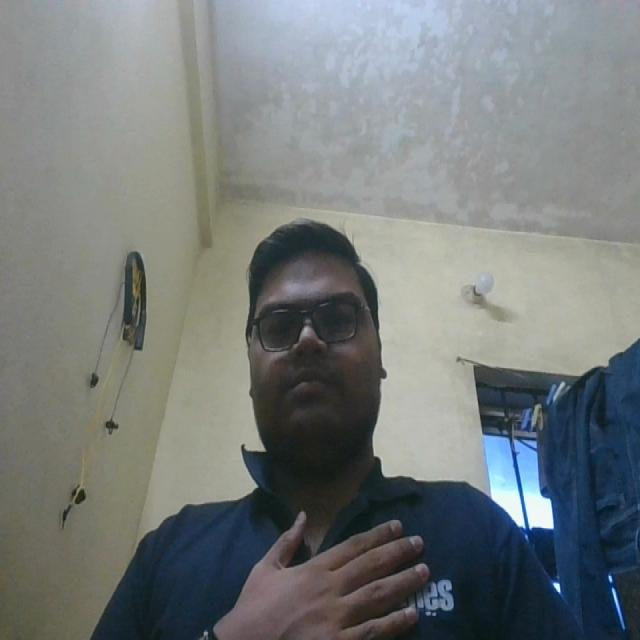Please: (231, 491, 438, 640)
